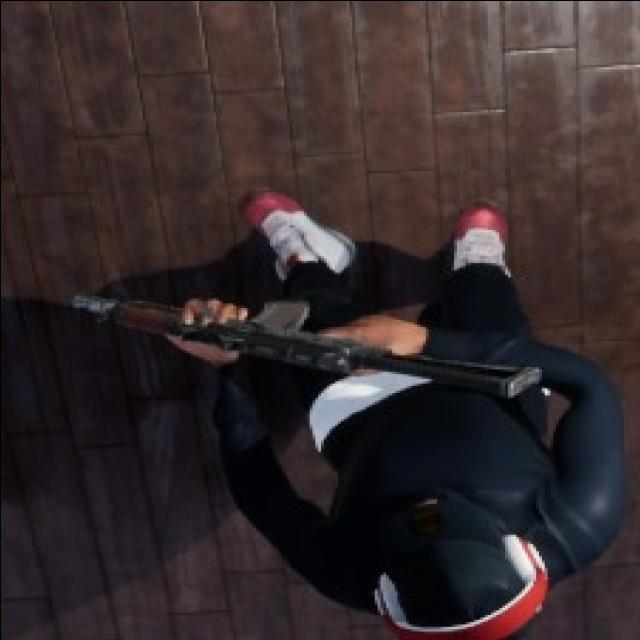rifle: (66, 292, 538, 400)
